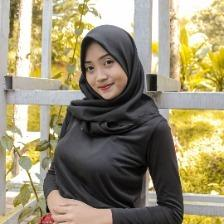Non Syar-i: (64, 20, 162, 137)
